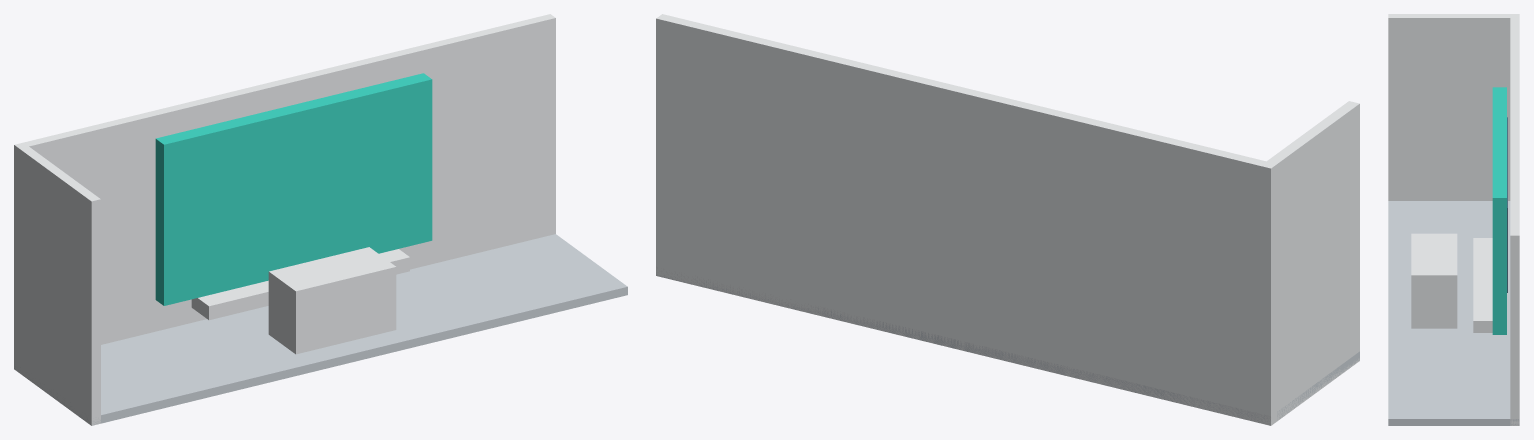
3 views of the same model, side by side, from view 1: azimuth 30°, elevation 25°; view 2: azimuth 150°, elevation 25°; view 3: azimuth 270°, elevation 25° (orthographic). The views are drawn at different scales.
Parts seen in each view (by area): view 1: Exhibition Booth Concept; view 2: Exhibition Booth Concept; view 3: Exhibition Booth Concept.
Part boxes in pixels (x1=…): Exhibition Booth Concept: x1=14, y1=14, x2=627, y2=425; Exhibition Booth Concept: x1=656, y1=14, x2=1359, y2=425; Exhibition Booth Concept: x1=1388, y1=14, x2=1519, y2=425.
Bounding box in the file's own units: 8 × 3.2 × 2.
